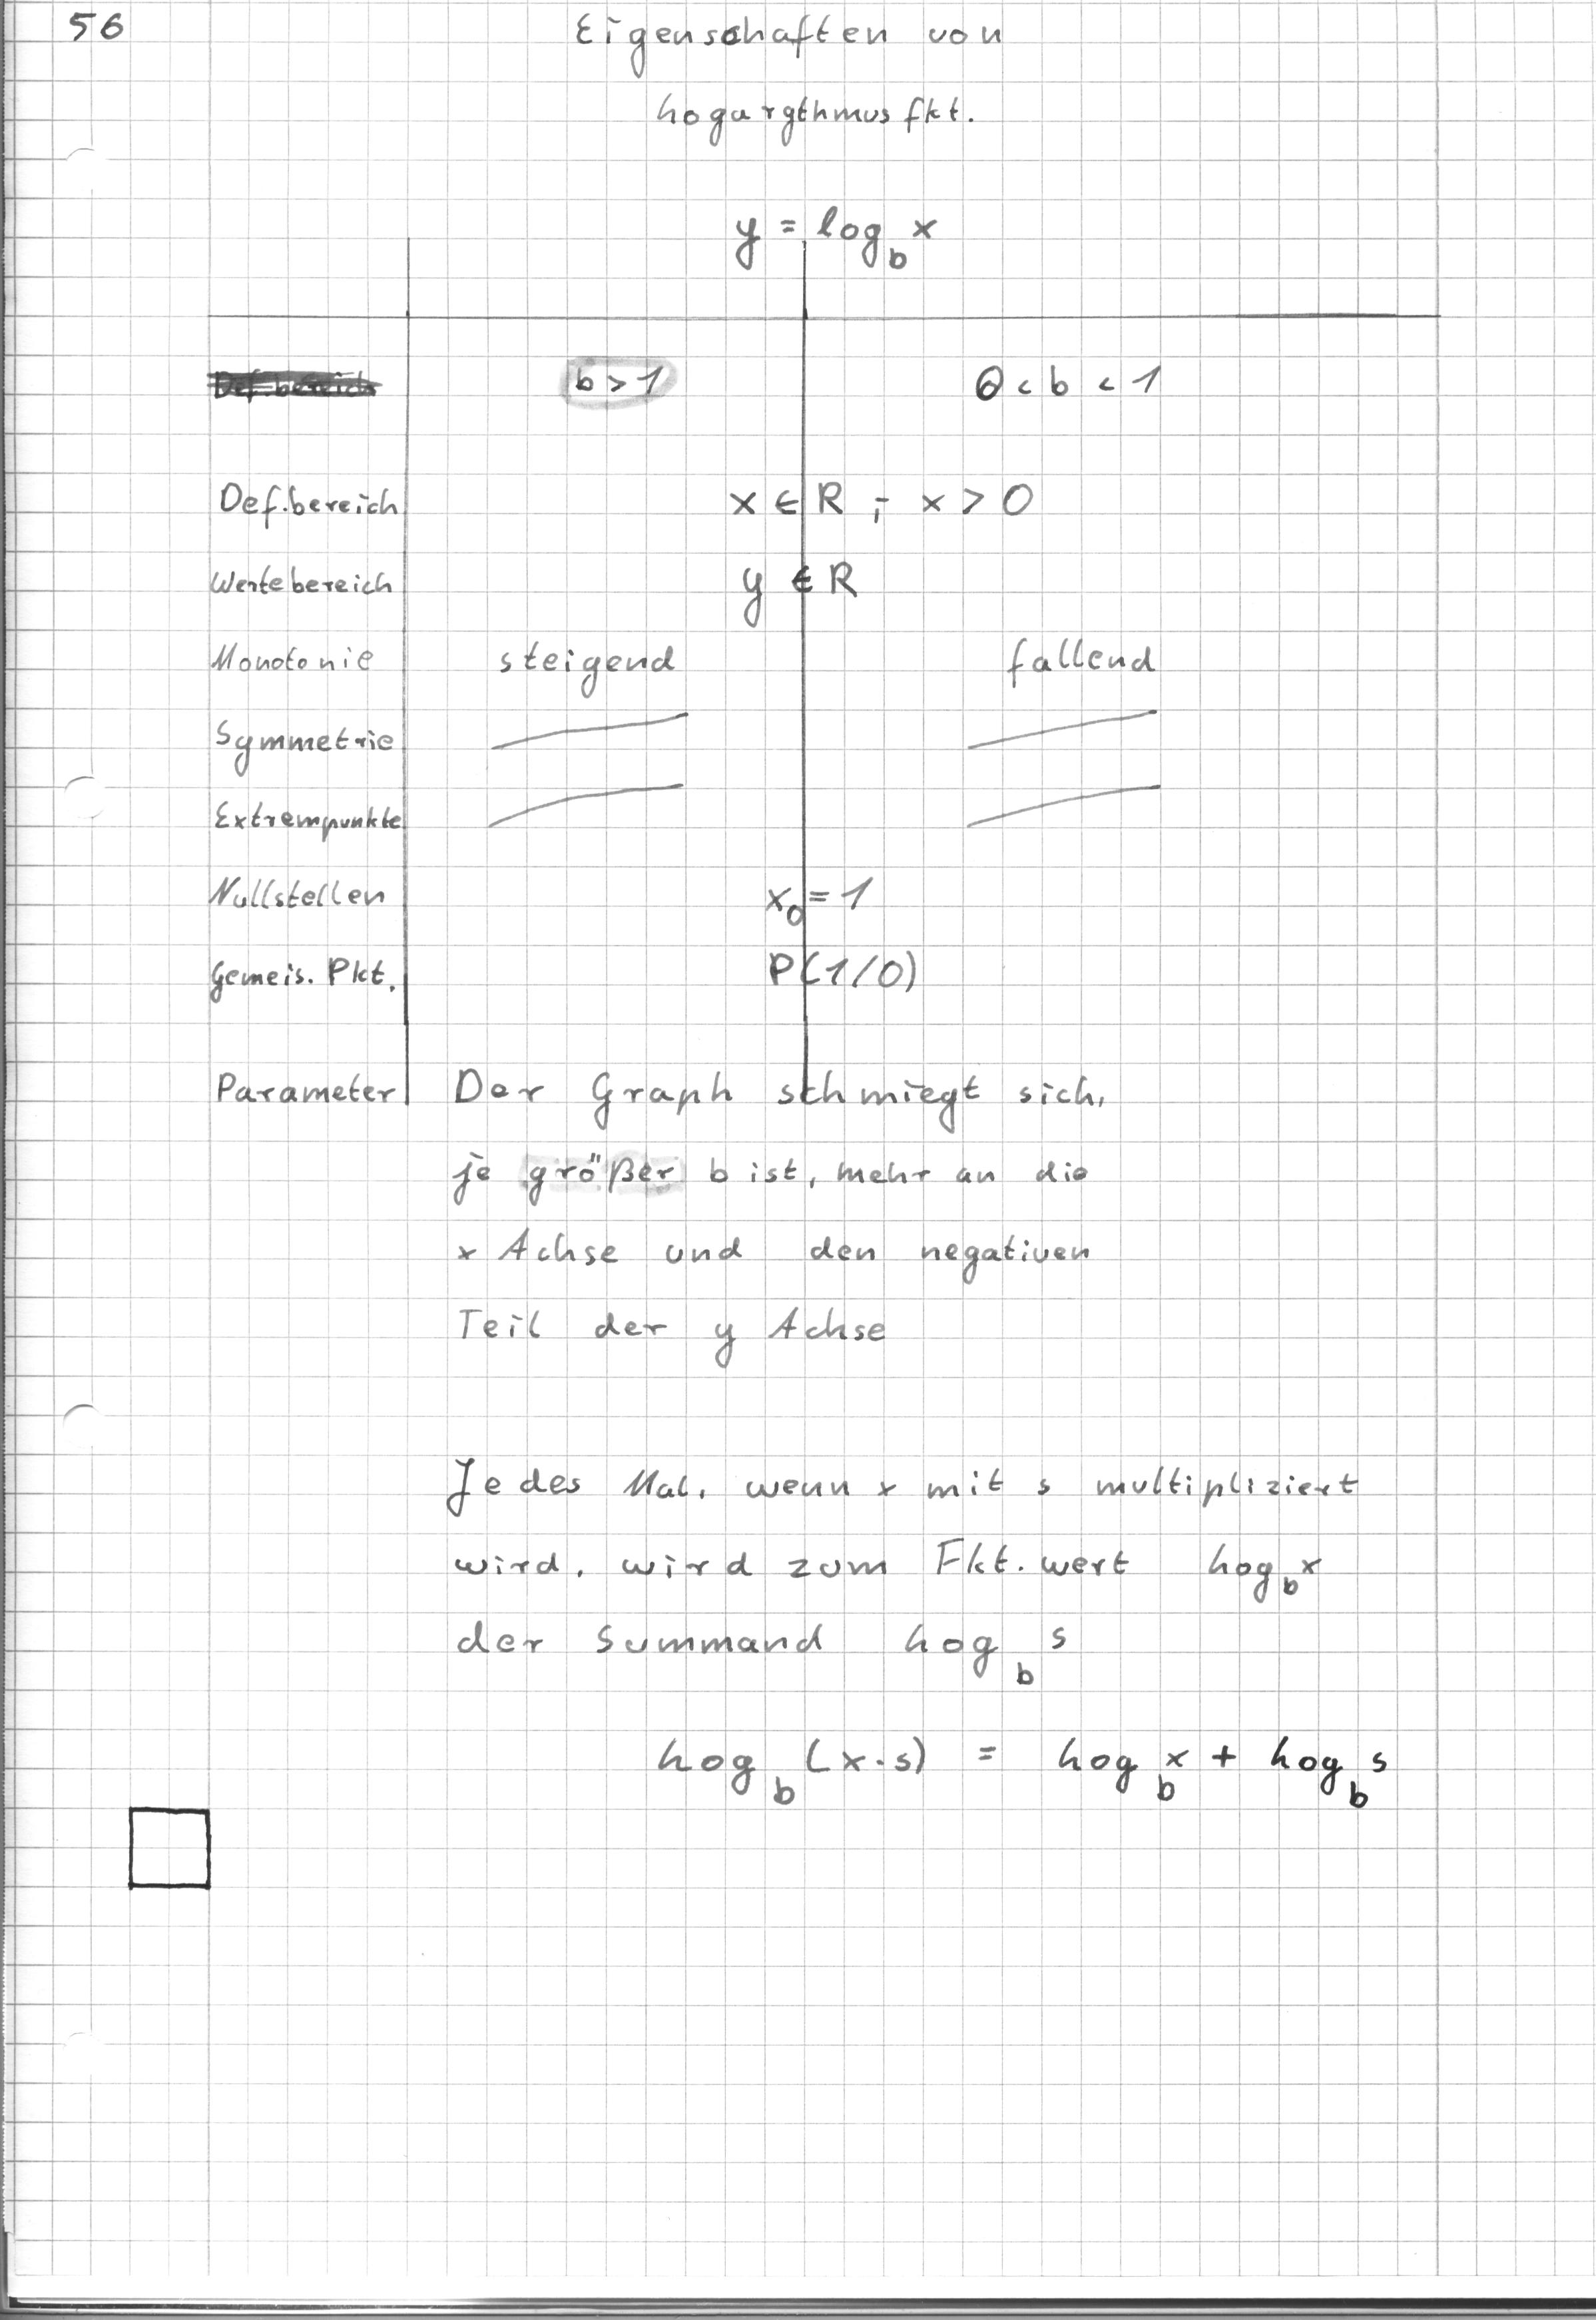word: (442, 1441, 1367, 1701), (451, 1060, 1114, 1378), (569, 5, 1010, 159), (721, 471, 1049, 631), (204, 946, 412, 1119), (202, 630, 412, 788), (206, 475, 410, 611), (207, 792, 407, 924), (752, 866, 934, 1010), (957, 337, 1175, 436), (489, 619, 687, 718), (989, 607, 1174, 709)
